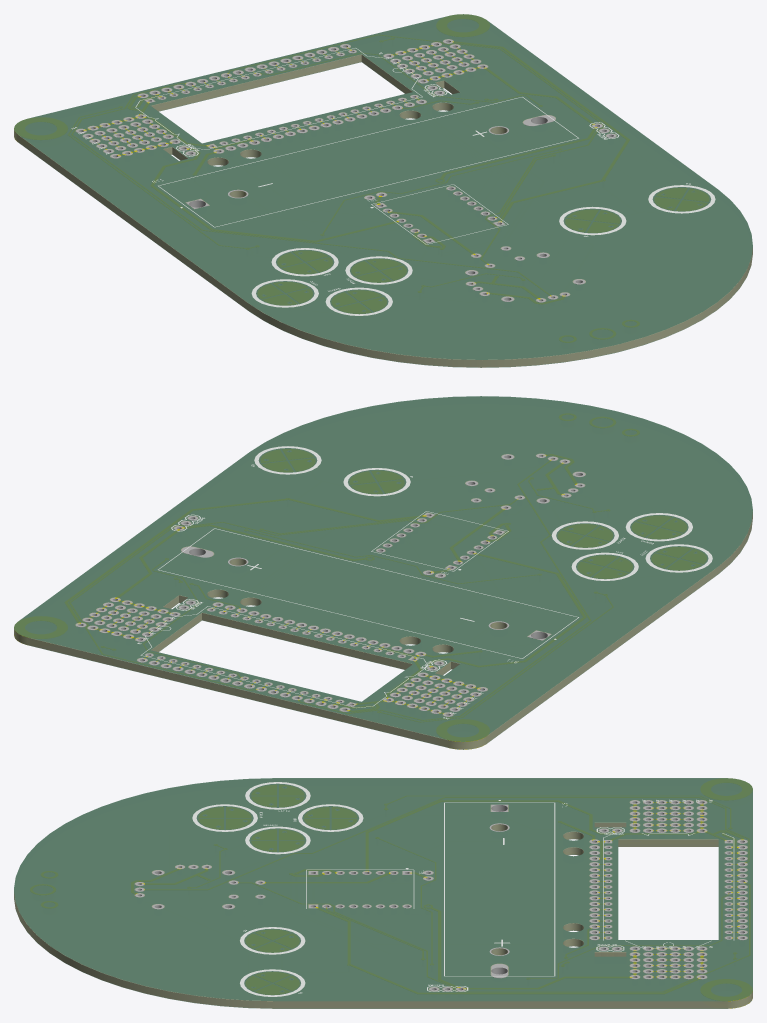
Rendered from cactuscon-2018-paid-badge.glb.
The picture shows the model from 3 angles, top to bottom: view 1: azimuth 30°, elevation 25°; view 2: azimuth 150°, elevation 25°; view 3: azimuth 270°, elevation 25°; orthographic projection. The views are drawn at different scales.
Parts seen in each view (by area): view 1: =>[0:1:1:7], =>[0:1:1:9], =>[0:1:1:2], =>[0:1:1:5]; view 2: =>[0:1:1:7], =>[0:1:1:9], =>[0:1:1:2], =>[0:1:1:5]; view 3: =>[0:1:1:7], =>[0:1:1:9], =>[0:1:1:2], =>[0:1:1:5].
Boxes of the visible parts, <box> form: =>[0:1:1:7]: <box>14,14,752,367</box>; =>[0:1:1:9]: <box>14,18,752,367</box>; =>[0:1:1:2]: <box>14,15,708,342</box>; =>[0:1:1:5]: <box>71,48,715,315</box>; =>[0:1:1:7]: <box>14,396,752,749</box>; =>[0:1:1:9]: <box>14,397,752,749</box>; =>[0:1:1:2]: <box>14,414,706,749</box>; =>[0:1:1:5]: <box>137,446,712,719</box>; =>[0:1:1:7]: <box>14,778,752,1008</box>; =>[0:1:1:9]: <box>14,779,752,1008</box>; =>[0:1:1:2]: <box>30,779,752,1008</box>; =>[0:1:1:5]: <box>192,782,734,996</box>.
Size of the model in its own units: 0.1 by 0.00166 by 0.14.
4 materials, 4 textured.
